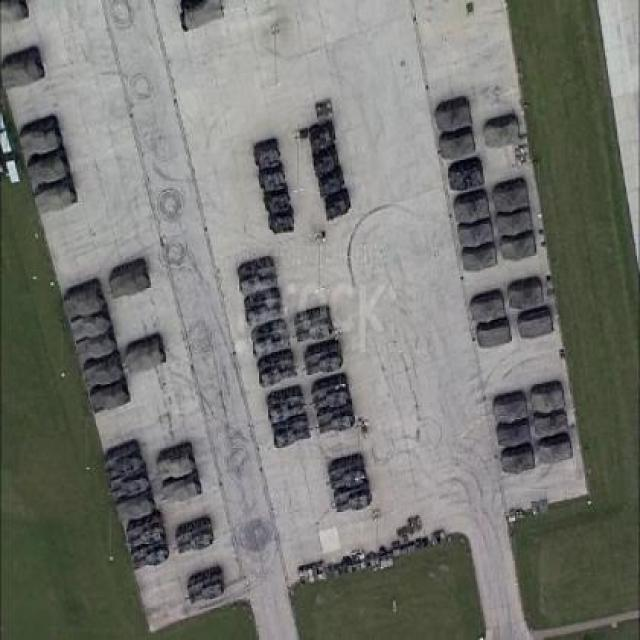tank: (0, 46, 47, 91), (16, 114, 63, 158), (104, 256, 150, 300), (28, 145, 70, 192), (33, 178, 80, 218), (173, 514, 216, 557), (123, 333, 167, 374), (63, 278, 106, 318), (178, 0, 227, 35), (236, 257, 279, 296), (250, 319, 291, 359), (184, 565, 226, 604), (88, 376, 131, 414), (102, 442, 148, 477), (258, 349, 298, 389), (155, 441, 197, 479), (242, 288, 284, 326), (268, 414, 312, 450), (290, 308, 334, 344), (108, 486, 153, 521), (325, 453, 368, 489), (73, 324, 116, 360), (264, 388, 308, 423), (72, 302, 110, 341), (491, 178, 531, 215), (81, 350, 122, 386), (302, 343, 346, 376), (482, 113, 522, 149), (314, 400, 355, 435), (435, 96, 473, 133), (438, 125, 476, 161), (499, 228, 537, 264), (122, 513, 164, 545), (516, 307, 554, 342), (452, 188, 490, 223), (495, 207, 534, 241), (162, 471, 202, 504), (492, 390, 529, 425), (501, 442, 537, 477), (312, 374, 349, 408), (530, 380, 566, 414), (461, 240, 499, 272), (130, 539, 170, 569), (332, 484, 372, 514), (534, 408, 569, 442), (448, 158, 485, 190), (476, 316, 513, 348), (506, 278, 544, 309), (469, 290, 505, 322), (536, 434, 573, 465), (494, 419, 533, 448), (457, 218, 494, 248), (308, 120, 338, 152), (324, 186, 350, 222), (319, 165, 345, 199), (252, 139, 281, 169), (312, 145, 339, 175), (256, 166, 285, 191), (263, 188, 290, 214), (267, 211, 294, 235)
